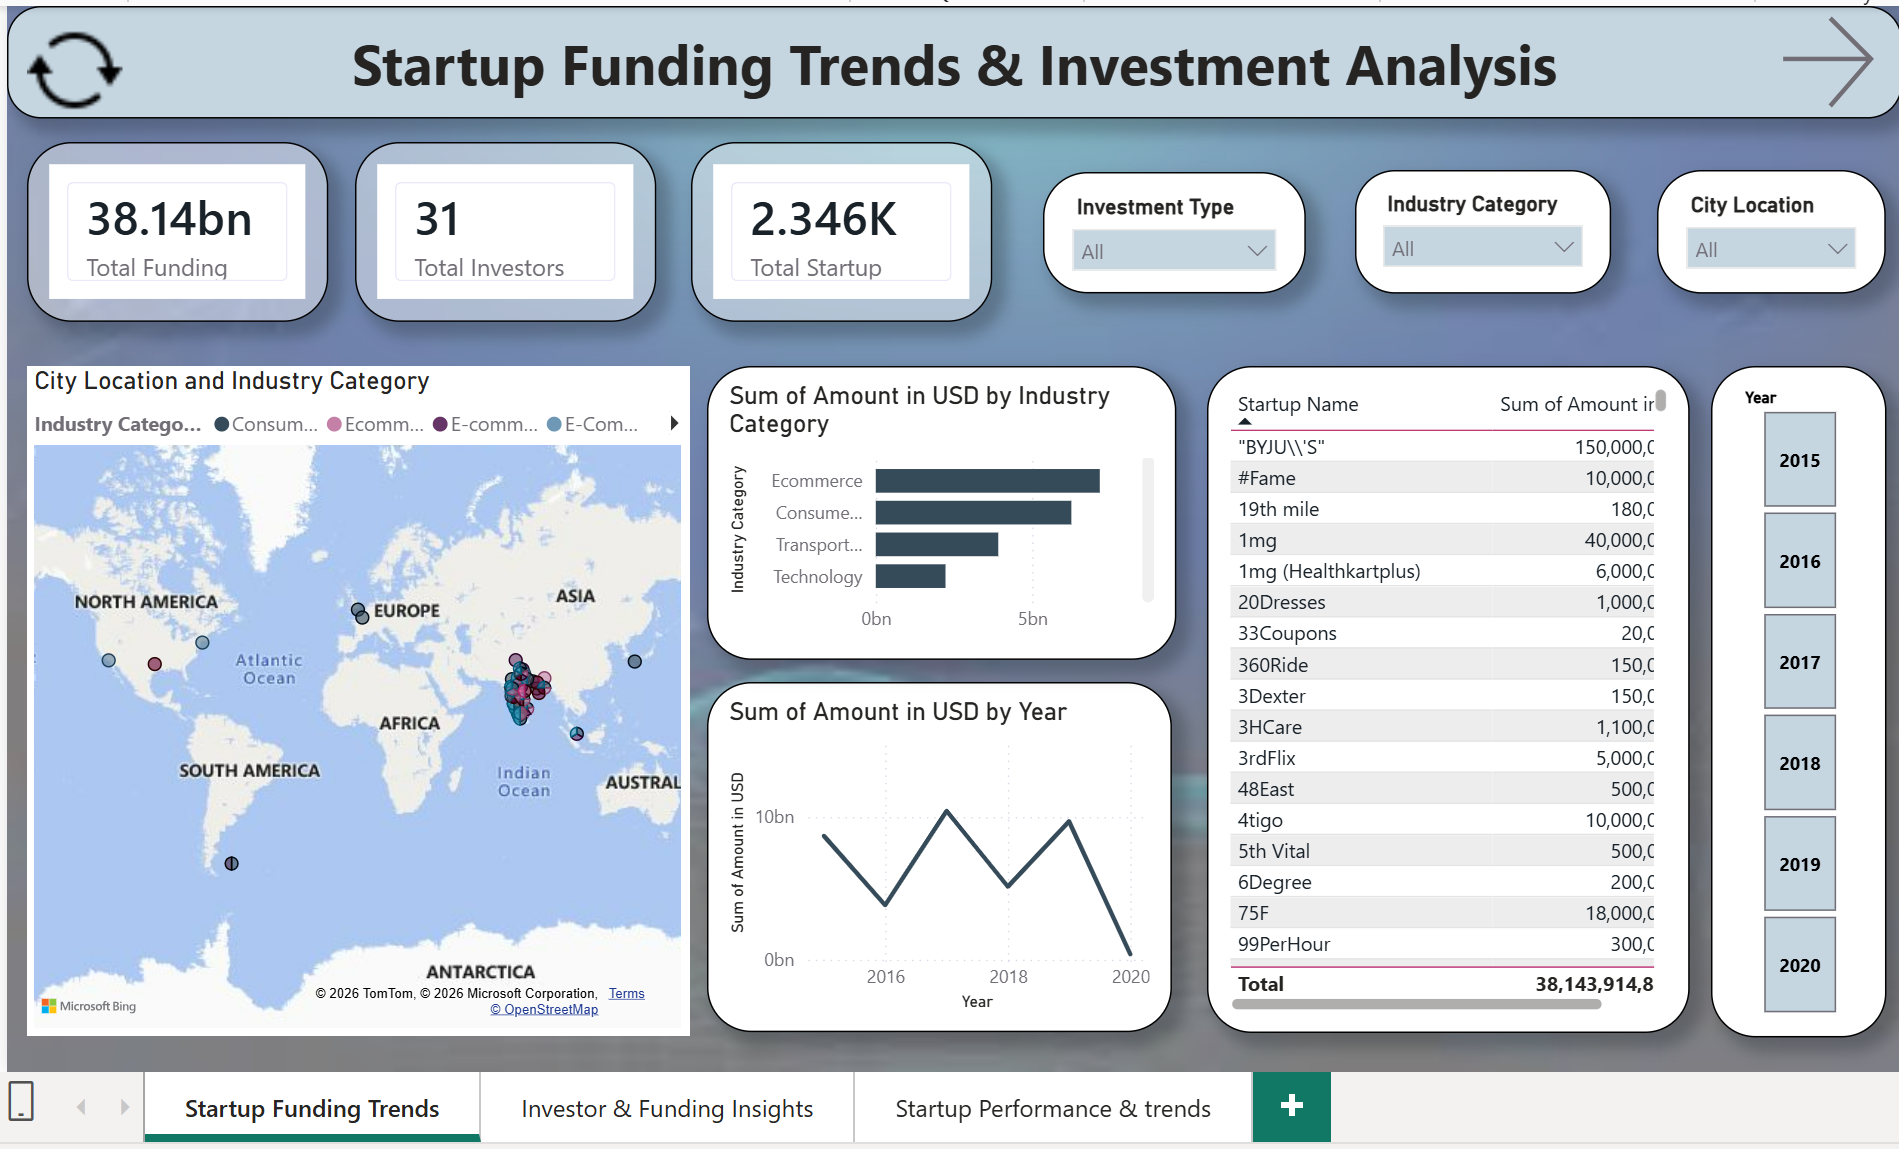

The dashboard page shown, as its layout file describes it:
{"tool":"powerbi","page":{"name":"Startup Funding Trends","canvas":[1280,720],"ordinal":0},"visuals":[{"type":"textbox","box":[0,0,1280,75.8],"z":0},{"type":"cardVisual","fields":{"Data":["Final Cleaned(in).Total Funding"]},"box":[13.3,91.7,203.3,121.7],"z":1000},{"type":"cardVisual","fields":{"Data":["Final Cleaned(in).Total Investors"]},"box":[235,91.7,203.3,121.7],"z":2000},{"type":"cardVisual","fields":{"Data":["Final Cleaned(in).Total Startup"]},"box":[461.7,91.7,203.3,121.7],"z":3000},{"type":"lineChart","fields":{"Category":["Final Cleaned(in).Date.Variation.Date Hierarchy.Year","Final Cleaned(in).Date.Variation.Date Hierarchy.Quarter","Final Cleaned(in).Date.Variation.Date Hierarchy.Month","Final Cleaned(in).Date.Variation.Date Hierarchy.Day"],"Y":["Sum(Final Cleaned(in).Amount in USD)"]},"box":[473.2,456.5,313.9,236.6],"z":4000},{"type":"barChart","fields":{"Category":["Final Cleaned(in).Industry Category"],"Y":["Sum(Final Cleaned(in).Amount in USD)"]},"box":[473.2,242.7,317,198.7],"z":5000},{"type":"tableEx","fields":{"Values":["Final Cleaned(in).Startup Name","Sum(Final Cleaned(in).Amount in USD)"]},"box":[809.9,242.7,326.1,450.4],"z":6000},{"type":"slicer","fields":{"Values":["Final Cleaned(in).City  Location"]},"box":[1114.7,110.7,154.7,83.4],"z":7000},{"type":"slicer","fields":{"Values":["Final Cleaned(in).Industry Category"]},"box":[910,110.7,172.9,83.4],"z":8000},{"type":"slicer","fields":{"Values":["Final Cleaned(in).Investment Type"]},"box":[699.1,112.2,177.4,81.9],"z":9000},{"type":"slicer","fields":{"Values":["Final Cleaned(in).Date.Variation.Date Hierarchy.Year"]},"box":[1151.1,242.7,118.3,453.5],"z":10000},{"type":"map","fields":{"Category":["Final Cleaned(in).City  Location"],"Series":["Final Cleaned(in).Industry Category"]},"box":[13.6,242.7,447.4,451.9],"z":11000},{"type":"image","box":[13.5,0,60.8,75.6],"z":12000},{"type":"actionButton","box":[1191.8,0,60.1,75.1],"z":13000}]}

Visuals, with their boxes in screenshot pixels (x1, y1, x2, y2):
textbox: (15,0,1888,111)
cardVisual - Final Cleaned(in).Total Funding: (34,134,332,312)
cardVisual - Final Cleaned(in).Total Investors: (359,134,656,312)
cardVisual - Final Cleaned(in).Total Startup: (690,134,988,312)
lineChart - Final Cleaned(in).Date.Variation.Date Hierarchy.Year x Final Cleaned(in).Date.Variation.Date Hierarchy.Quarter: (707,668,1166,1014)
barChart - Final Cleaned(in).Industry Category x Sum(Final Cleaned(in).Amount in USD): (707,355,1171,646)
tableEx - Final Cleaned(in).Startup Name x Sum(Final Cleaned(in).Amount in USD): (1200,355,1677,1014)
slicer - Final Cleaned(in).City  Location: (1646,162,1872,284)
slicer - Final Cleaned(in).Industry Category: (1346,162,1599,284)
slicer - Final Cleaned(in).Investment Type: (1038,164,1297,284)
slicer - Final Cleaned(in).Date.Variation.Date Hierarchy.Year: (1699,355,1872,1019)
map - Final Cleaned(in).City  Location x Final Cleaned(in).Industry Category: (35,355,689,1016)
image: (35,0,124,111)
actionButton: (1759,0,1846,110)
